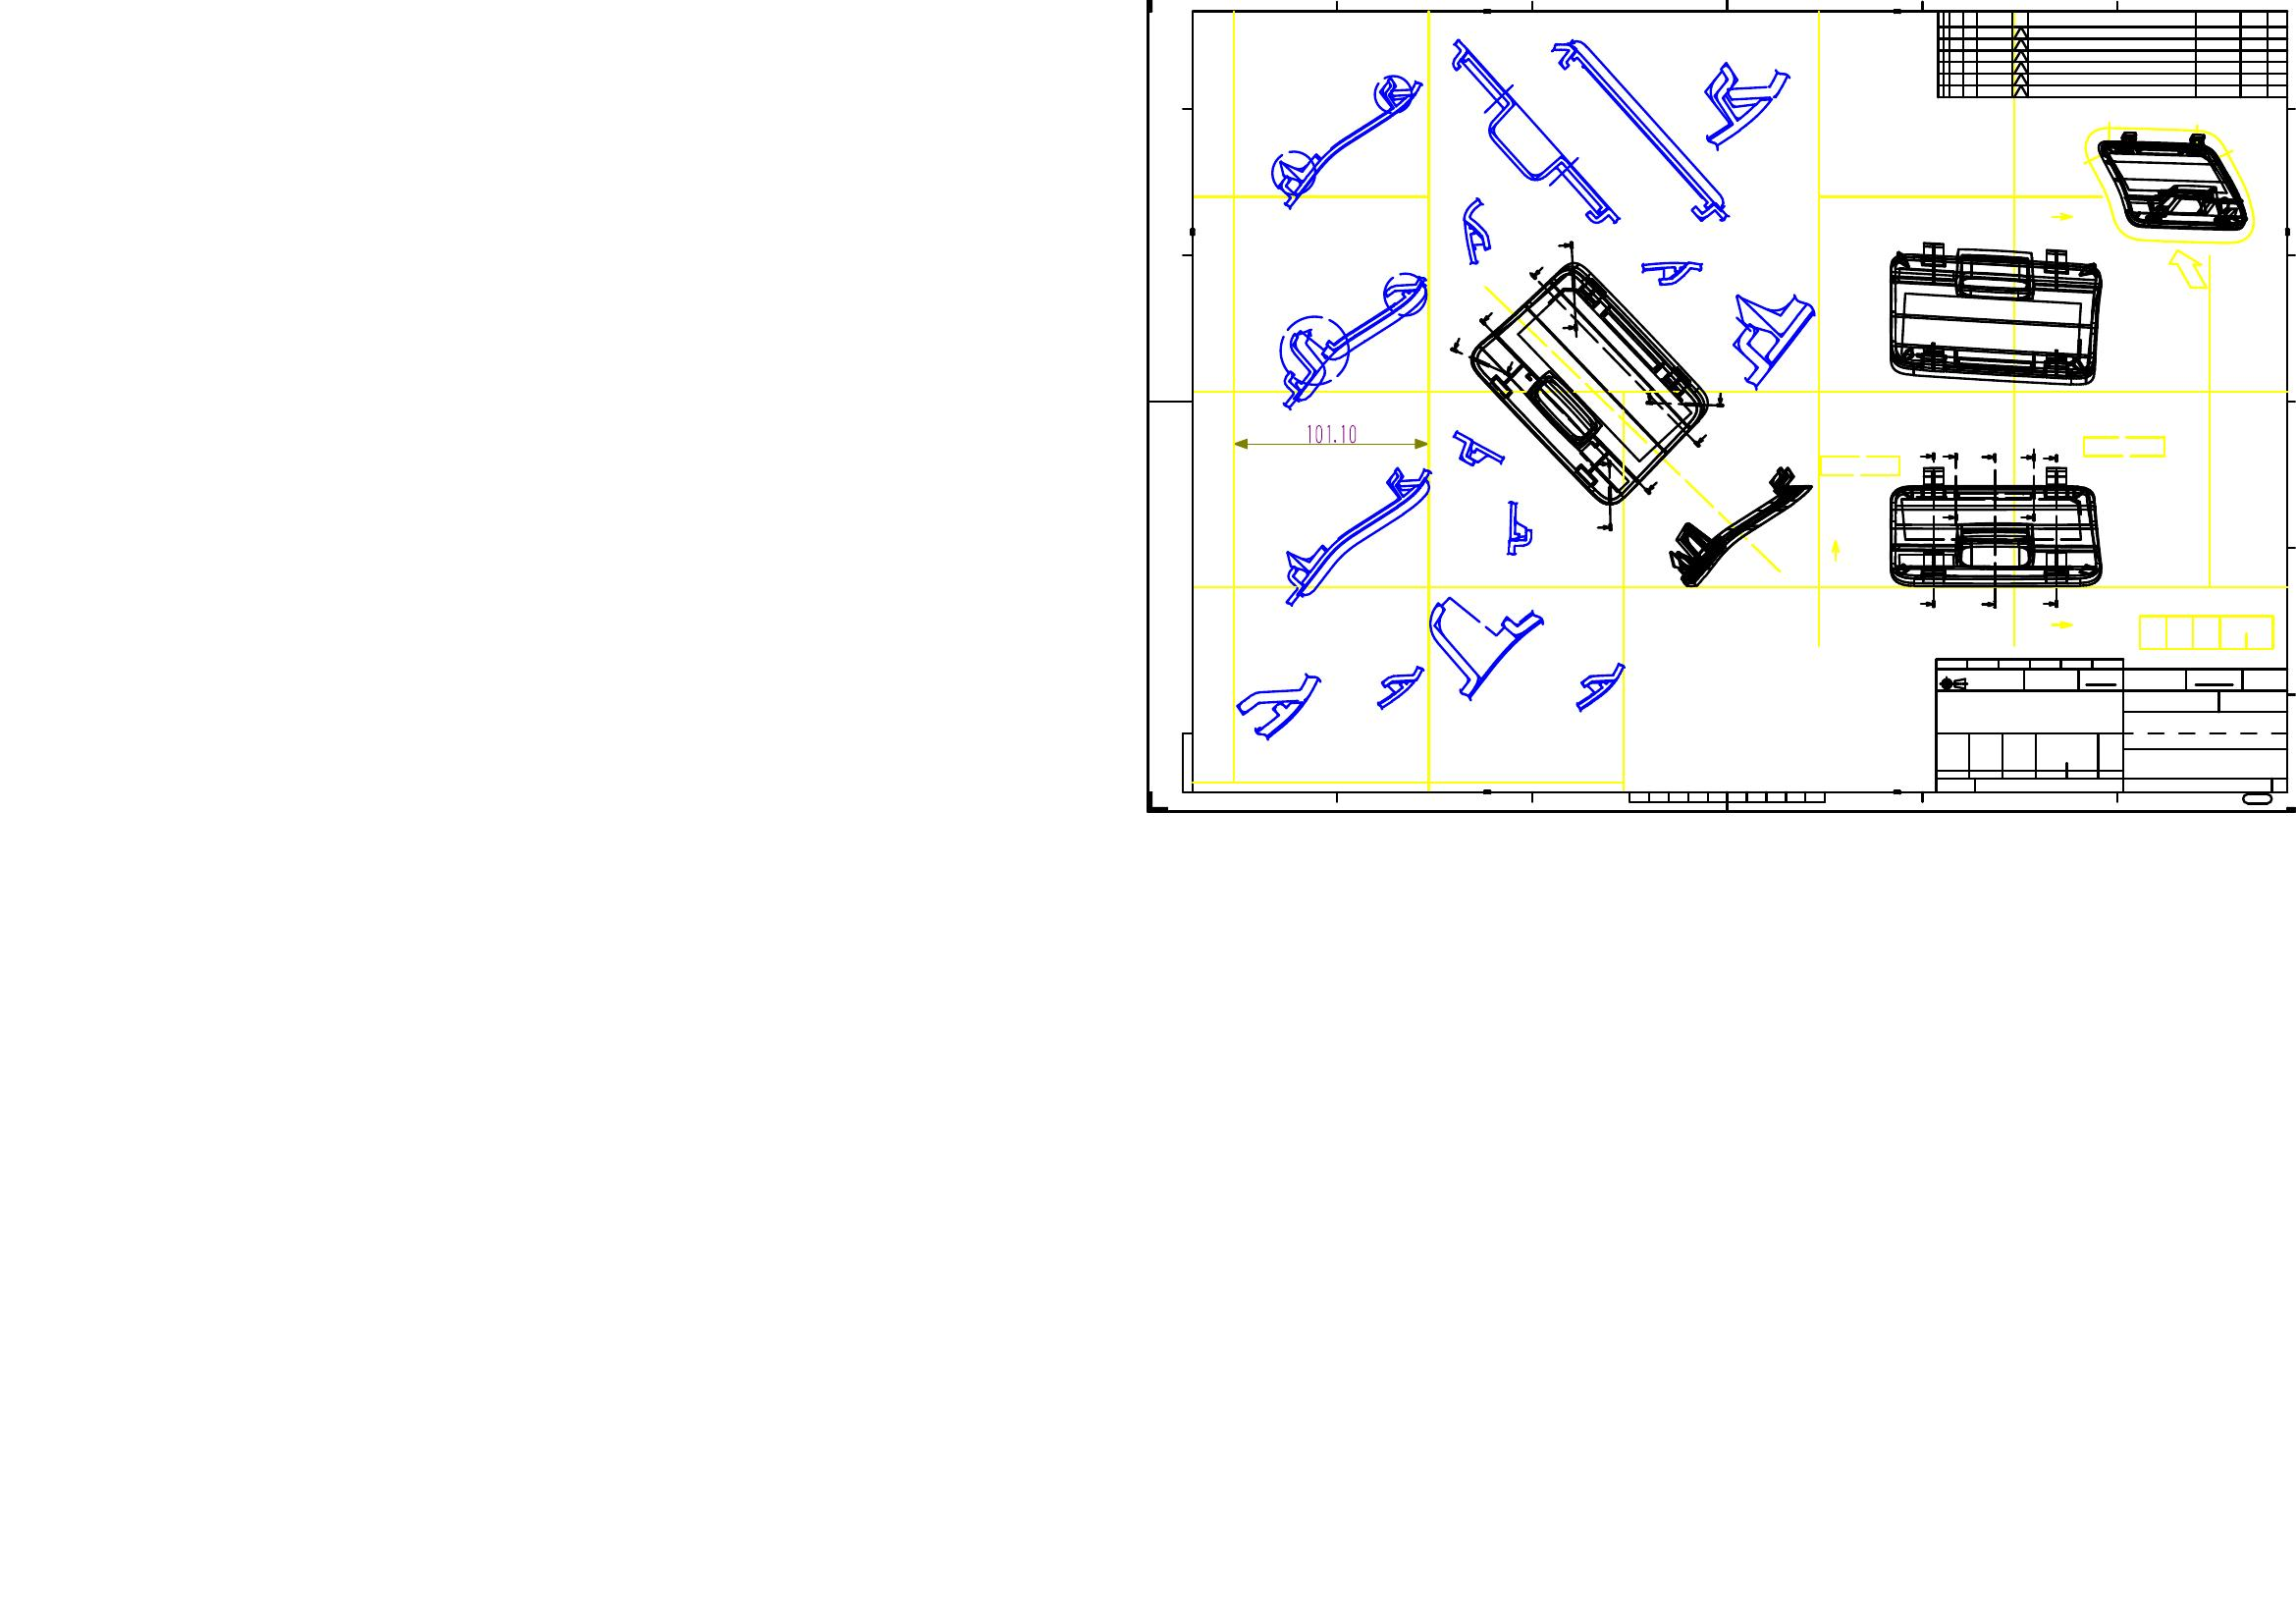object: (1470, 262, 1709, 506), (1551, 39, 1730, 221), (1453, 37, 1621, 223), (1888, 241, 2103, 385), (1888, 466, 2103, 587), (1284, 466, 1432, 606), (1282, 274, 1425, 408), (1279, 79, 1423, 209), (1669, 468, 1815, 587), (2097, 130, 2249, 230), (1430, 598, 1542, 700), (1732, 294, 1816, 390), (1702, 62, 1790, 151), (1237, 673, 1318, 738), (1576, 663, 1625, 710), (1451, 429, 1505, 466), (1377, 666, 1423, 710), (1463, 197, 1491, 264), (1641, 260, 1702, 286), (1507, 499, 1532, 555)
title_block: (1936, 657, 2285, 791), (1936, 11, 2287, 98)
